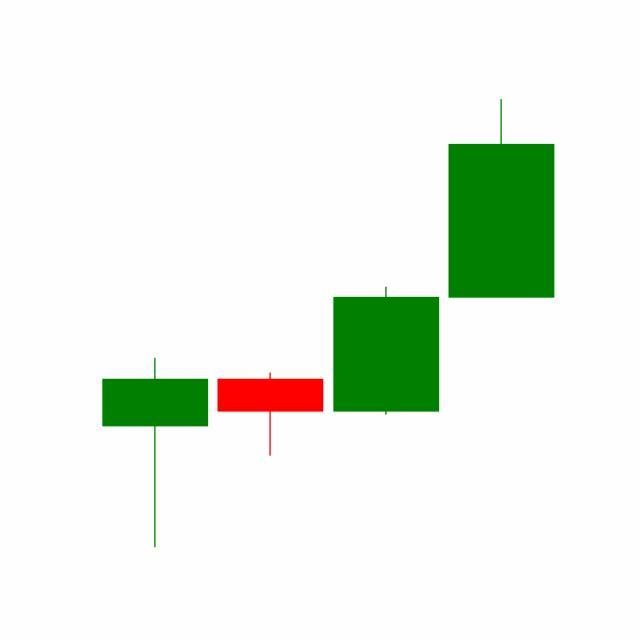Marubozu: (329, 286, 445, 418)
